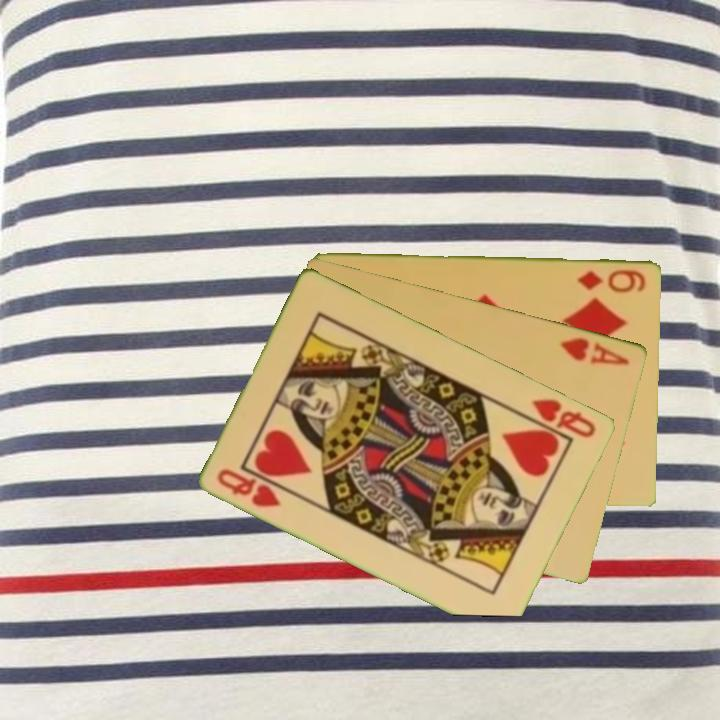6d: (575, 265, 649, 295)
Ah: (557, 333, 633, 368)
Qh: (529, 394, 600, 441), (213, 464, 285, 510)
